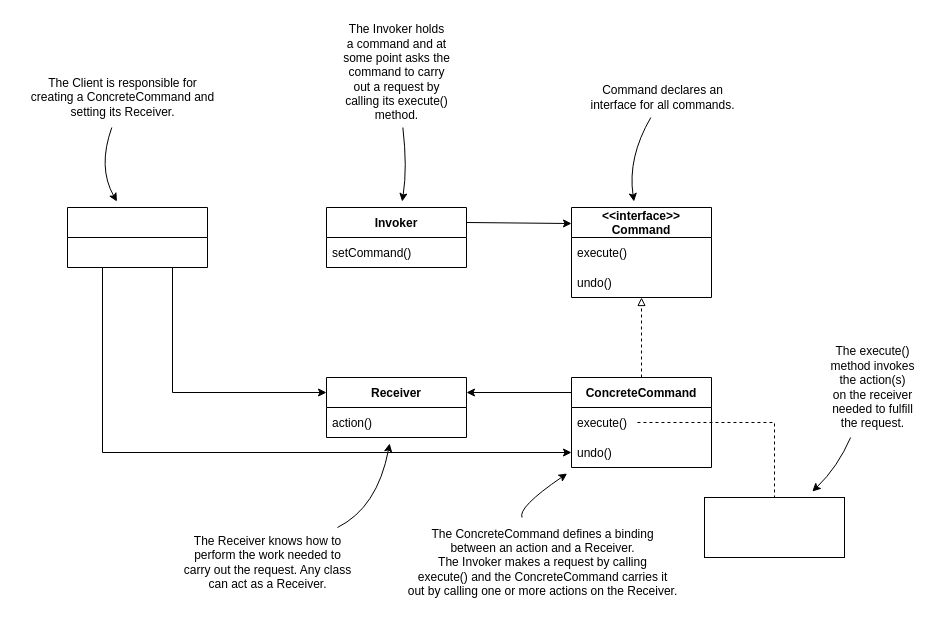
Some shapes in this 944 by 624 pixel diagram are drawn without their labels. Each missing label, with the centre of its shape:
"Client" goes at (x=137, y=237).
"public void execute() { receiver.action(); }" goes at (x=774, y=527).
